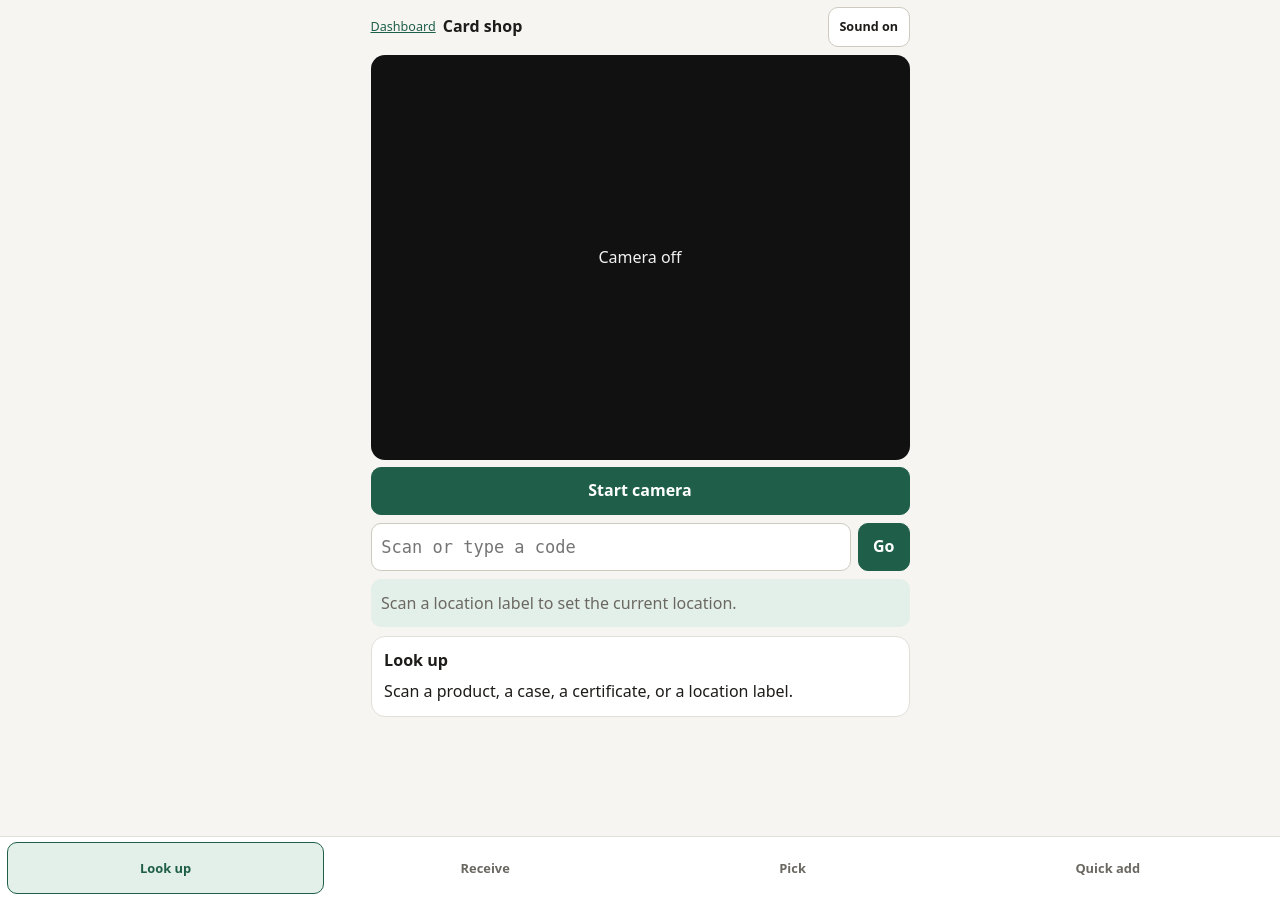
it: scan page: unknown codes › creates an item with the code after the duplicate check
Type "PSA-99" into the field labelled "code" at (611, 547), box [370, 523, 851, 571]
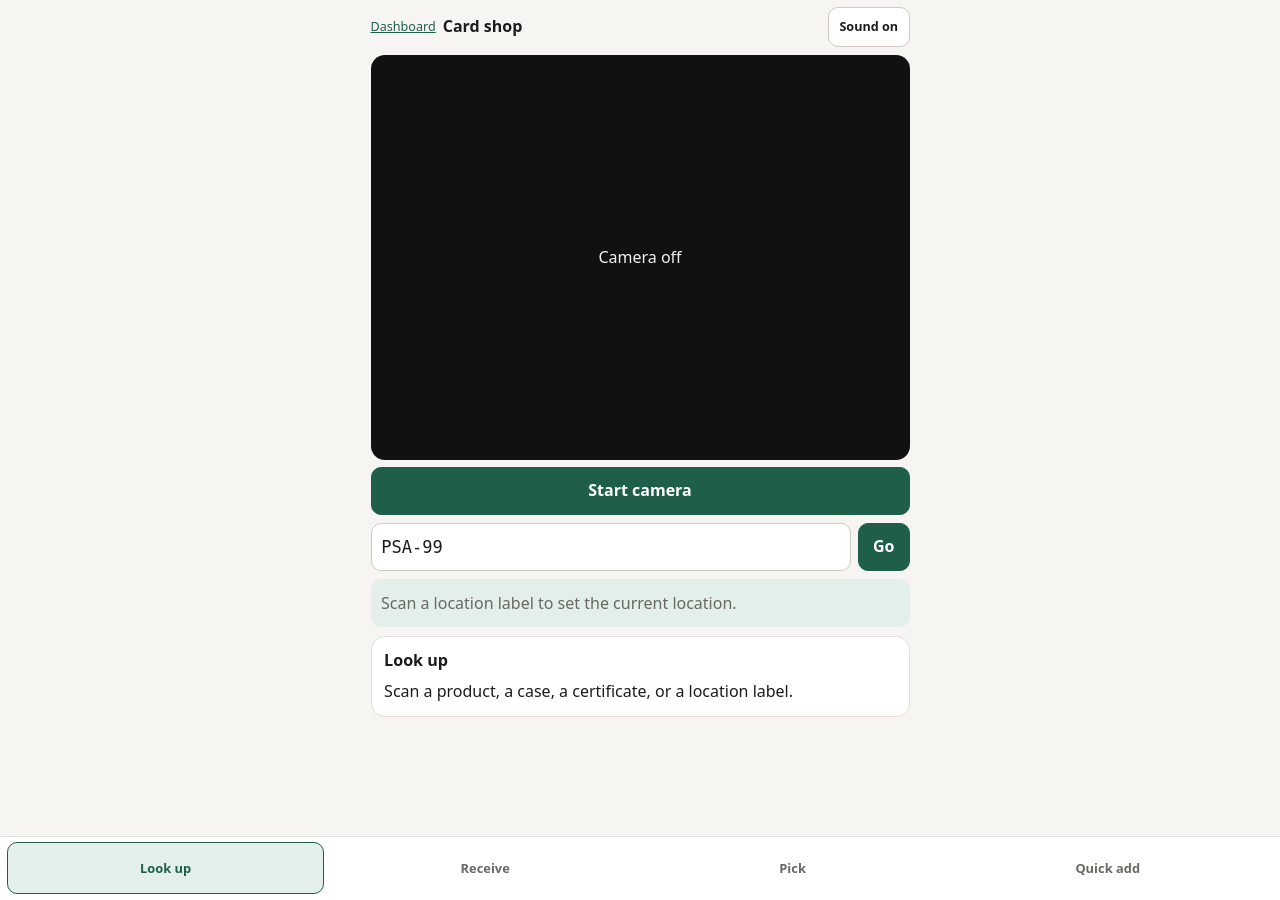
Submit the form named "Code", box [370, 523, 910, 571]
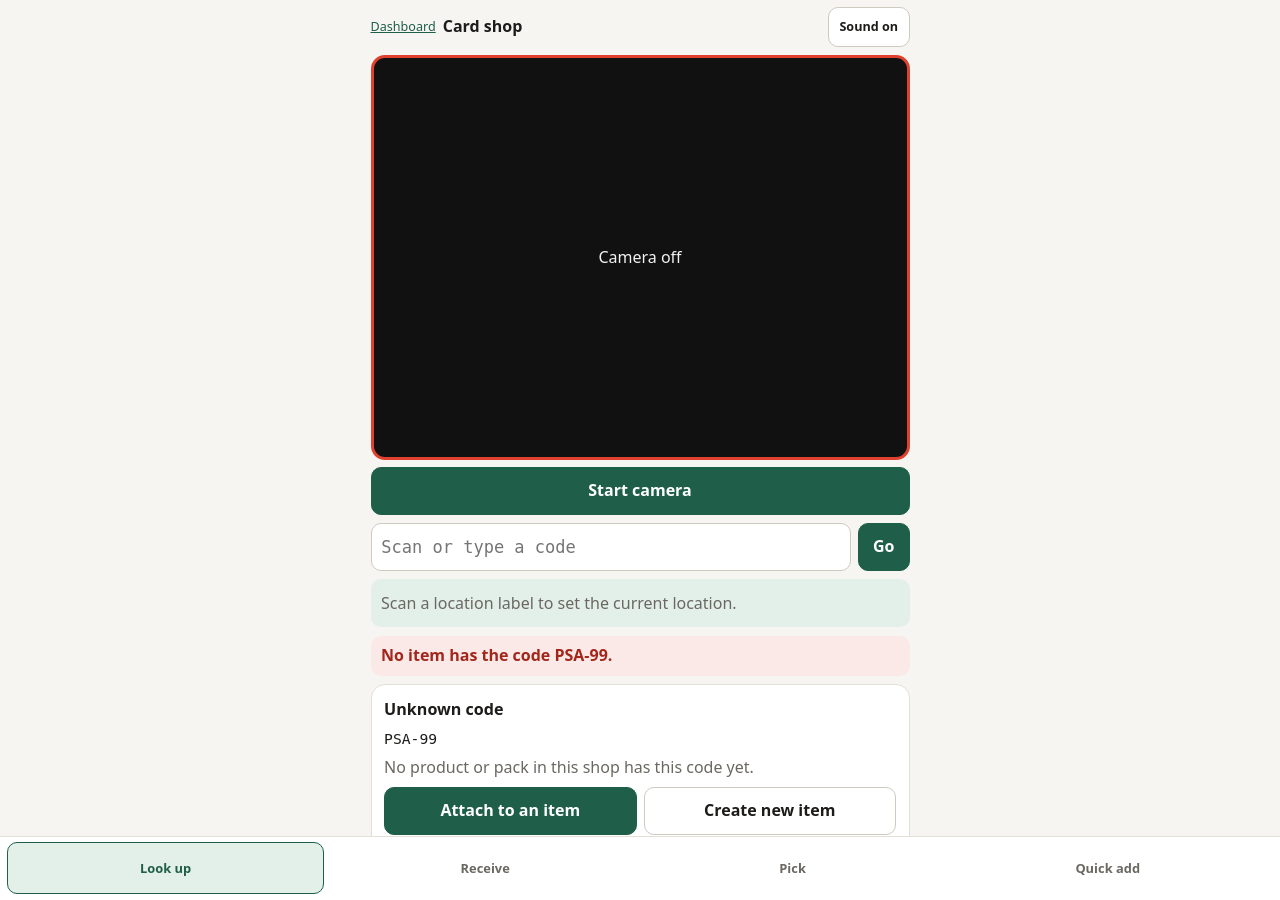
Click the button "Create new item" at (770, 811), box [644, 787, 896, 835]
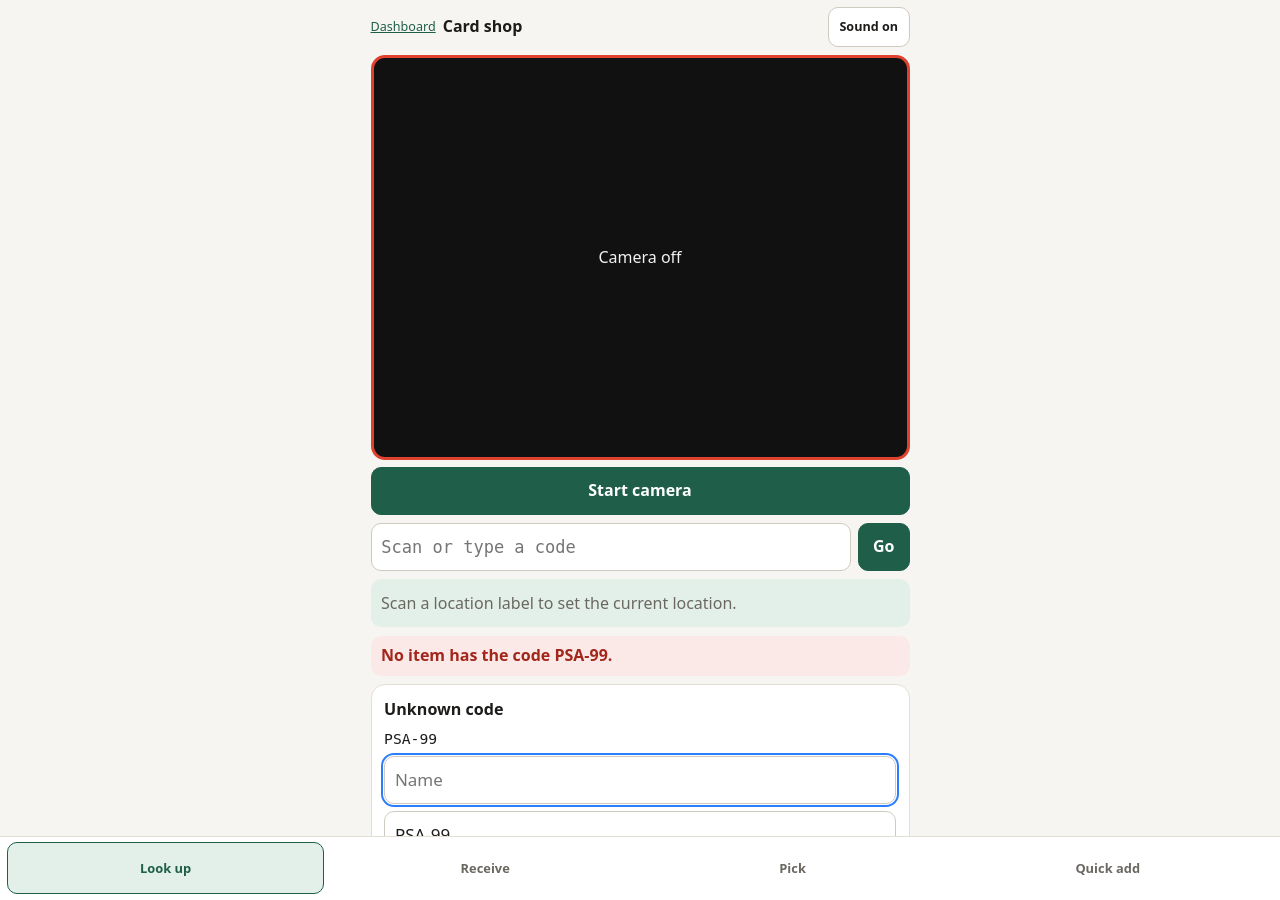
Result: the field named "SKU" holds "PSA-99" at [384, 811, 896, 859]
Type "Charizard slab 2" into the field labelled "Name" at (640, 780), box [384, 756, 896, 804]
(page scrolled)
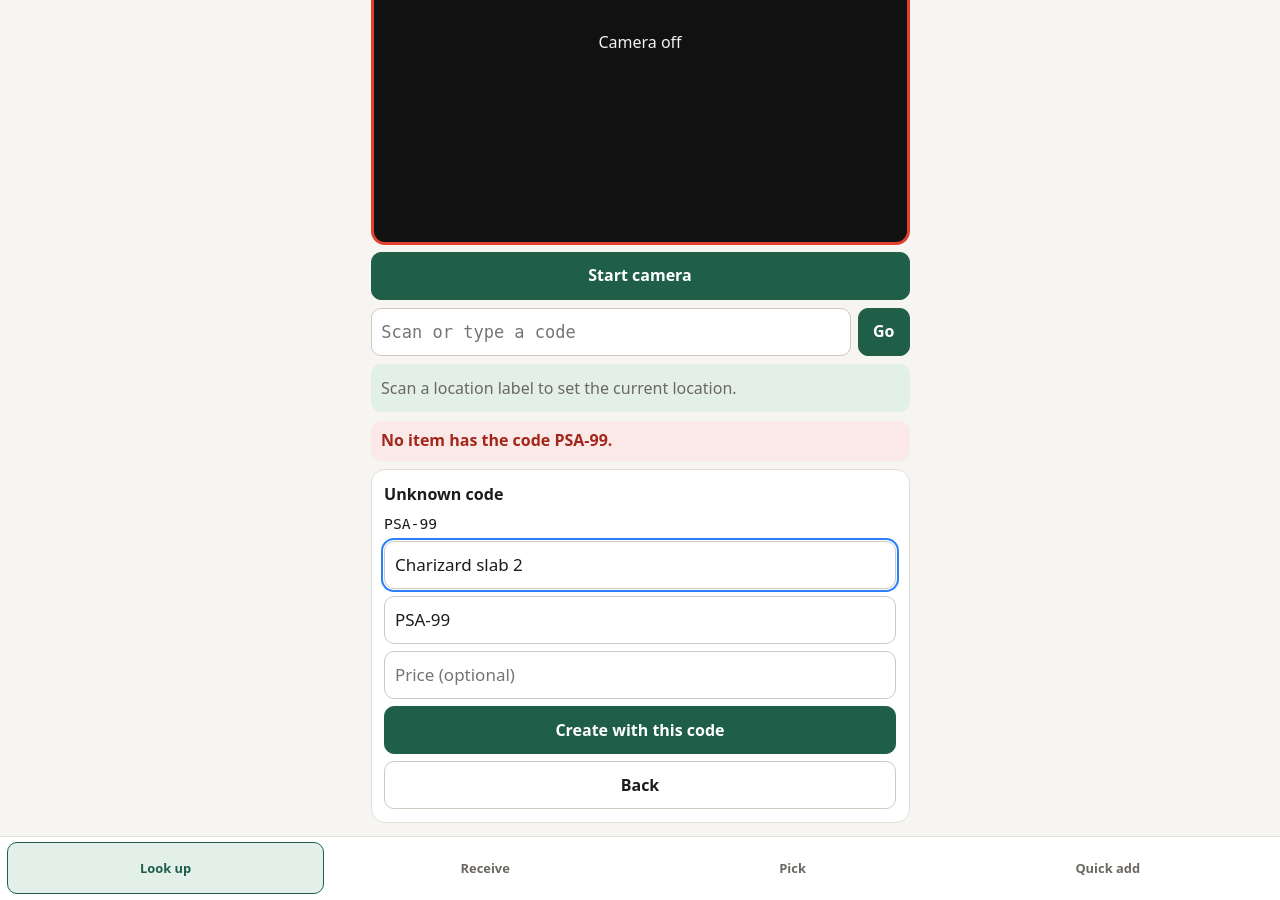
Type "450" into the field labelled "Price" at (640, 675), box [384, 651, 896, 699]
Click the button "Create with this code" at (640, 730), box [384, 706, 896, 754]
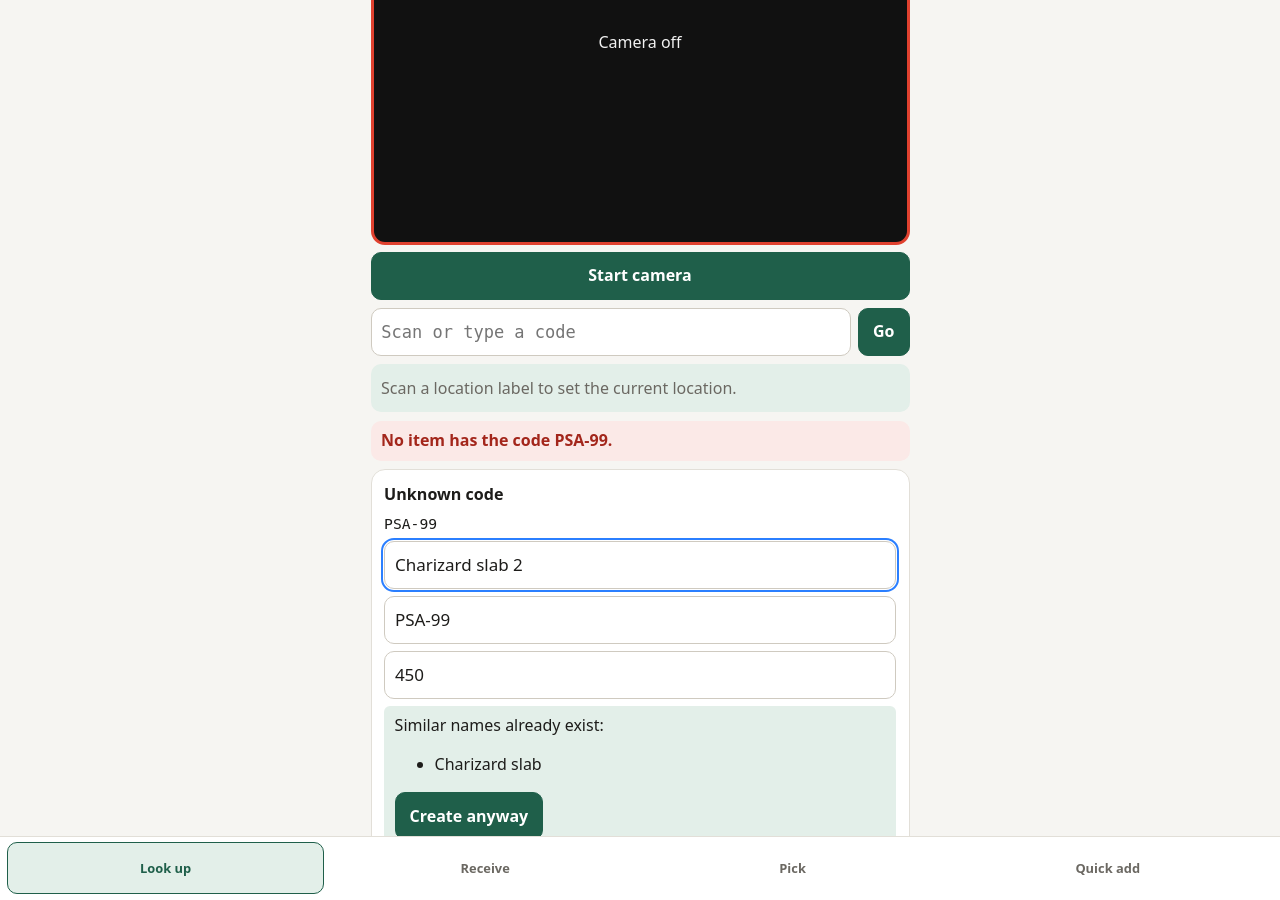
Click the button "Create anyway" at (469, 816), box [395, 792, 543, 840]
(page scrolled)
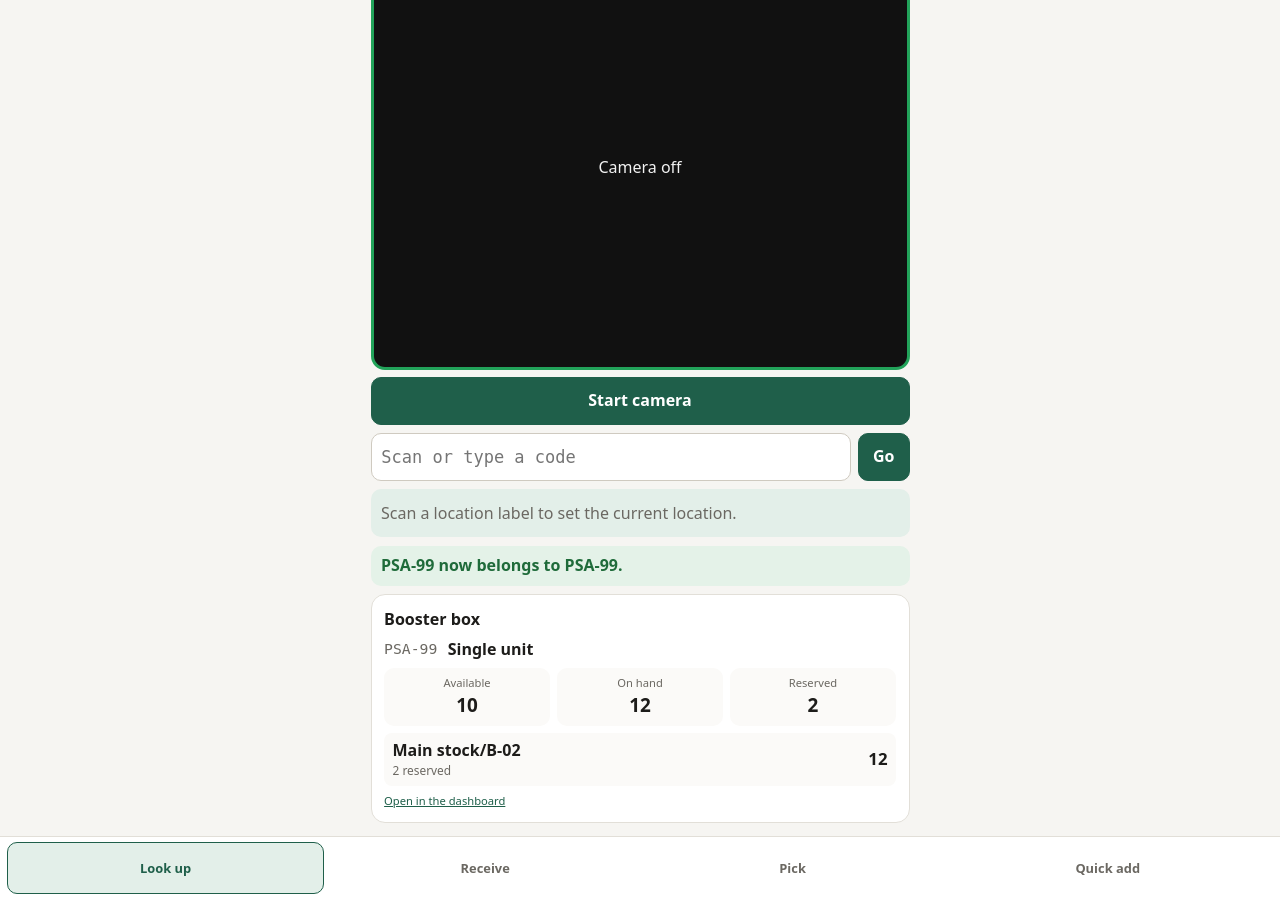
Result: the text "PSA-99 now belongs to PSA-99." is shown at [370, 546, 910, 586]
